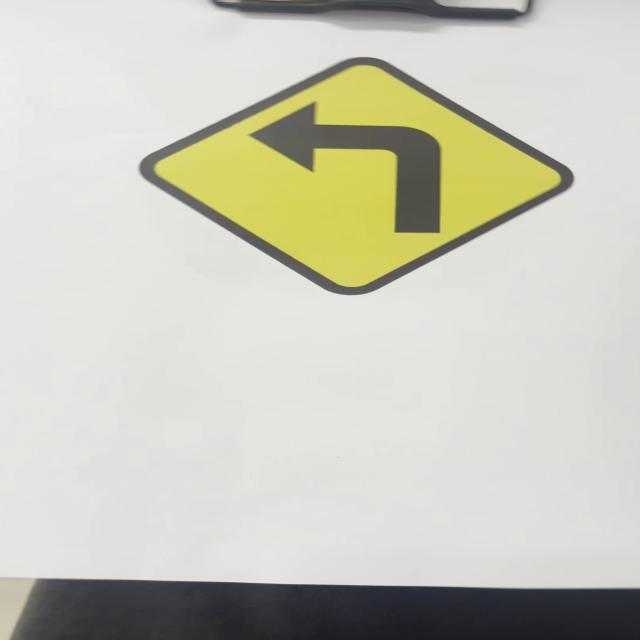left: (133, 57, 575, 297)
